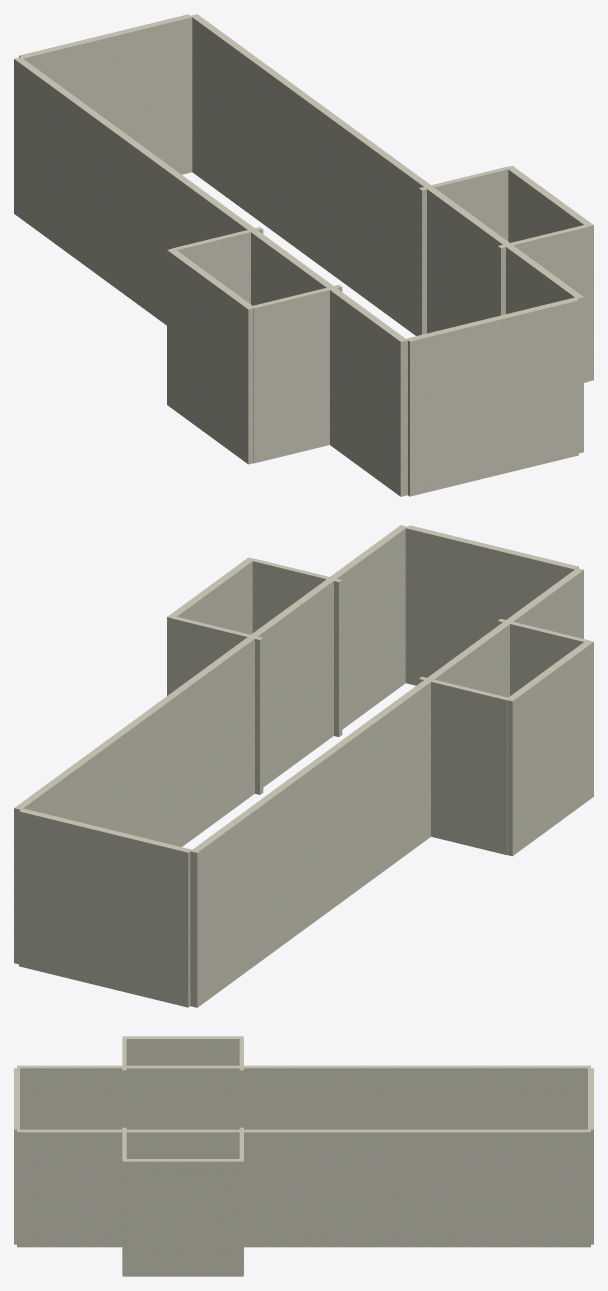
Rendered from KOL_T1_ST_PAULS__01_PrimaryStructure.fbx.
3 renders of one model, top to bottom at view 1: azimuth 30°, elevation 25°; view 2: azimuth 150°, elevation 25°; view 3: azimuth 270°, elevation 25°, orthographic. The views are drawn at different scales.
Parts seen in each view (by area): view 1: KOL_T1_ST_PAULS__01_PrimaryStructure__KOL_T1_B4_Stone_00; view 2: KOL_T1_ST_PAULS__01_PrimaryStructure__KOL_T1_B4_Stone_00; view 3: KOL_T1_ST_PAULS__01_PrimaryStructure__KOL_T1_B4_Stone_00.
Boxes of the visible parts, x1,y1,x2,y2 form: KOL_T1_ST_PAULS__01_PrimaryStructure__KOL_T1_B4_Stone_00: [14, 14, 593, 496]; KOL_T1_ST_PAULS__01_PrimaryStructure__KOL_T1_B4_Stone_00: [14, 525, 593, 1007]; KOL_T1_ST_PAULS__01_PrimaryStructure__KOL_T1_B4_Stone_00: [14, 1036, 593, 1276].
Bounding box in the file's own units: 98 × 42 × 192.
Materials: 1 (1 with a texture image).
